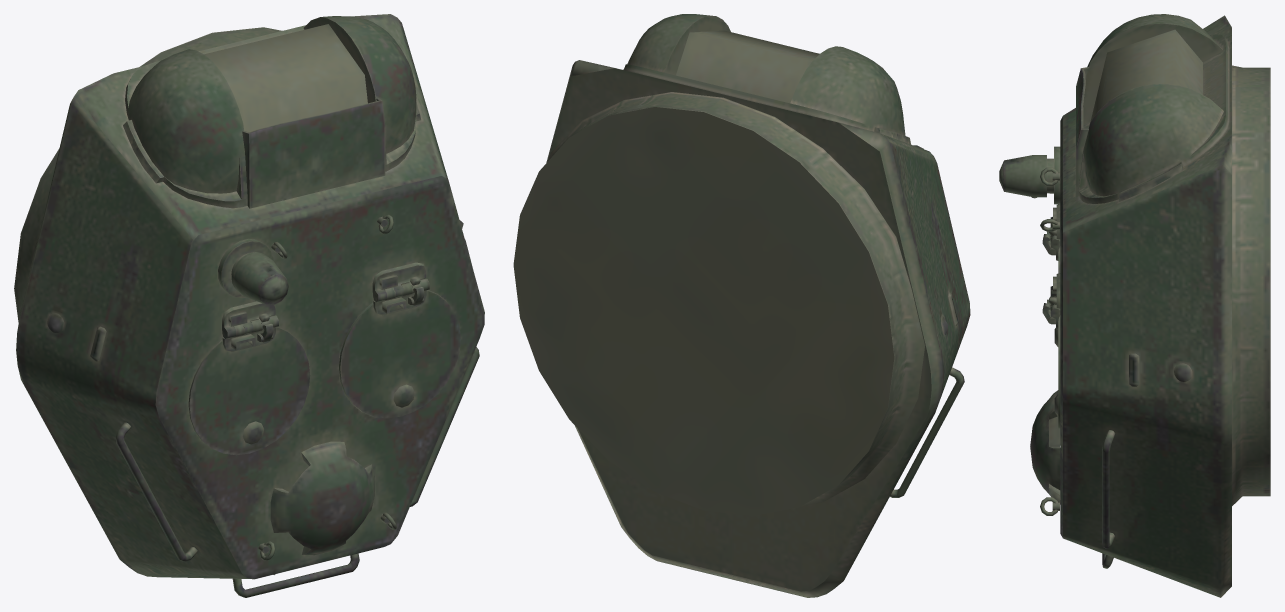
Rendered from Turret_01.glb.
The picture shows the model from 3 angles, left to right: view 1: azimuth 30°, elevation 25°; view 2: azimuth 150°, elevation 25°; view 3: azimuth 270°, elevation 25°; orthographic projection. The views are drawn at different scales.
Parts seen in each view (by area): view 1: set_0_group_0; view 2: set_0_group_0; view 3: set_0_group_0.
Boxes of the visible parts, x1,y1,x2,y2 form: set_0_group_0: [14, 14, 484, 597]; set_0_group_0: [513, 14, 970, 597]; set_0_group_0: [999, 14, 1270, 597].
Size of the model in its own units: 1.85 by 2.19 by 1.06.
Materials: 1 (1 with a texture image).
